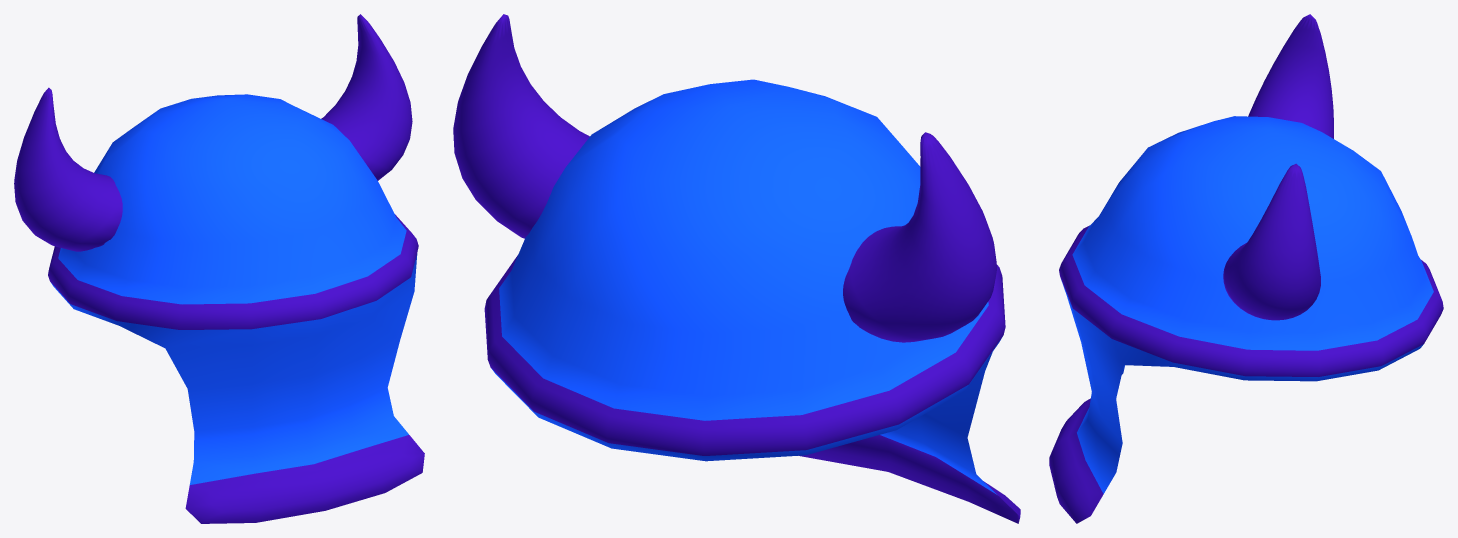
Rendered from Helmet.fbx.
The picture shows the model from 3 angles, left to right: view 1: azimuth 30°, elevation 25°; view 2: azimuth 150°, elevation 25°; view 3: azimuth 270°, elevation 25°; orthographic projection. The views are drawn at different scales.
Parts seen in each view (by area): view 1: Halmet; view 2: Halmet; view 3: Halmet.
Part boxes in pixels (left/top/right/bottom): Halmet: left=14, top=14, right=424, bottom=523; Halmet: left=453, top=14, right=1020, bottom=523; Halmet: left=1049, top=14, right=1443, bottom=523.
Size of the model in its own units: 51.88 by 48.84 by 45.19.
